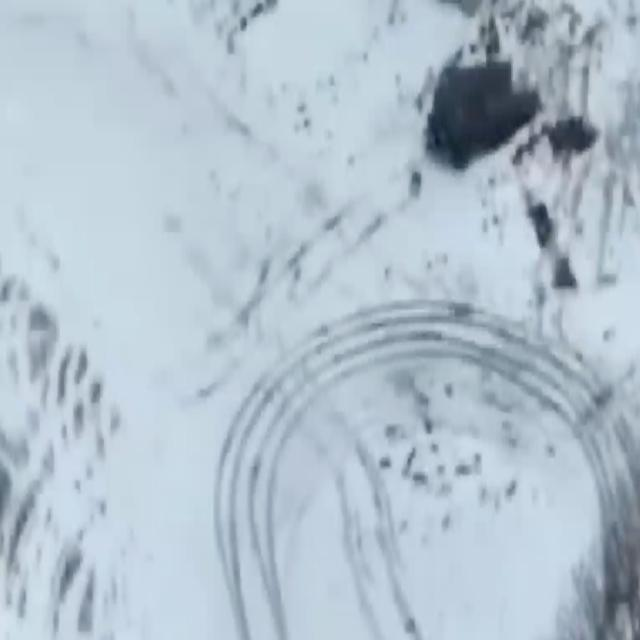vehicle: (419, 46, 543, 172)
